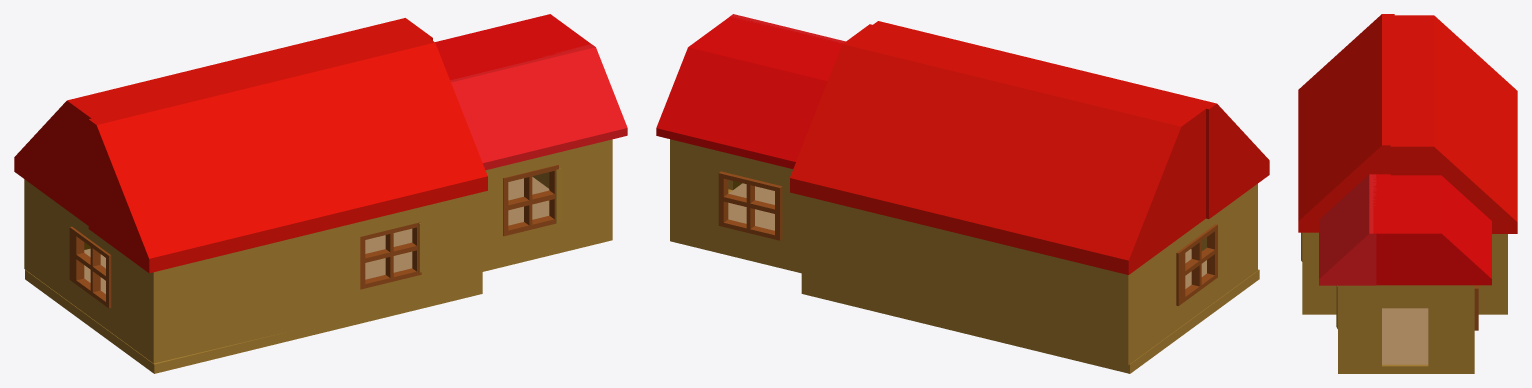
Rendered from nieuwHuis.gltf.
3 views of the same model, side by side, from view 1: azimuth 30°, elevation 25°; view 2: azimuth 150°, elevation 25°; view 3: azimuth 270°, elevation 25° (orthographic). The views are drawn at different scales.
Parts seen in each view (by area): view 1: Kubus.005, Cube, Kubus.004, Kubus.007, Kubus.006, Kubus.001, Kubus, Kubus.002; view 2: Kubus.004, Cube, Kubus.006, Kubus.005, Kubus.003, Kubus.001; view 3: Kubus.004, Cube, Kubus.005, Kubus.006, Kubus.007, Kubus.003.
Boxes of the visible parts, bbox=[...] form: Kubus.005: bbox=[88, 38, 487, 273]; Cube: bbox=[24, 139, 612, 373]; Kubus.004: bbox=[14, 18, 432, 225]; Kubus.007: bbox=[450, 44, 627, 170]; Kubus.006: bbox=[435, 14, 590, 80]; Kubus.001: bbox=[69, 226, 111, 308]; Kubus: bbox=[503, 164, 558, 236]; Kubus.002: bbox=[360, 222, 421, 289]; Kubus.004: bbox=[790, 24, 1207, 274]; Cube: bbox=[670, 139, 1259, 373]; Kubus.006: bbox=[656, 16, 842, 168]; Kubus.005: bbox=[873, 21, 1269, 218]; Kubus.003: bbox=[718, 171, 782, 240]; Kubus.001: bbox=[1176, 224, 1217, 305]; Kubus.004: bbox=[1390, 15, 1517, 233]; Cube: bbox=[1301, 232, 1507, 373]; Kubus.005: bbox=[1298, 14, 1394, 232]; Kubus.006: bbox=[1373, 174, 1491, 285]; Kubus.007: bbox=[1319, 174, 1376, 285]; Kubus.003: bbox=[1474, 285, 1478, 330].
Size of the model in its own units: 73.39 by 30.55 by 35.67.
